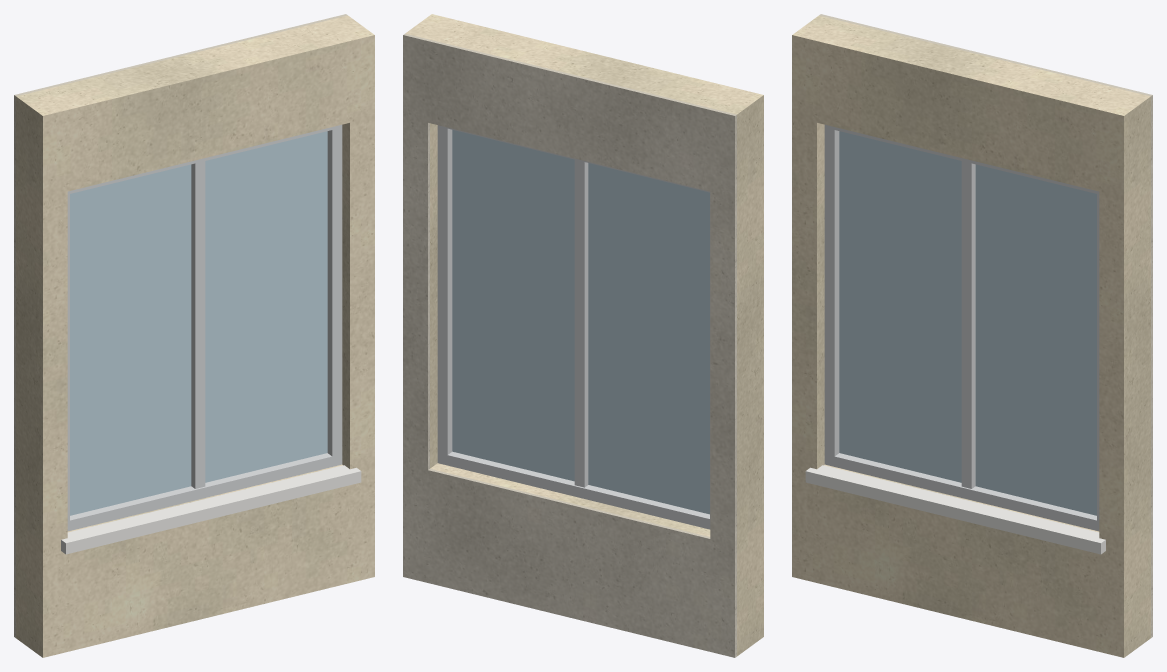
Rendered from wall_lobby_glass.glb.
3 renders of one model, left to right at view 1: azimuth 30°, elevation 25°; view 2: azimuth 150°, elevation 25°; view 3: azimuth 330°, elevation 25°, orthographic.
Visible parts, largest first — view 1: wall_lobby_glass_stucco, wall_lobby_glass_glass, wall_lobby_glass_alu, wall_lobby_glass_trim, wall_lobby_glass_plaster; view 2: wall_lobby_glass_plaster, wall_lobby_glass_glass, wall_lobby_glass_stucco, wall_lobby_glass_alu; view 3: wall_lobby_glass_stucco, wall_lobby_glass_glass, wall_lobby_glass_alu, wall_lobby_glass_trim, wall_lobby_glass_plaster.
Boxes of the visible parts, bbox=[...] form: wall_lobby_glass_stucco: bbox=[16, 15, 374, 657]; wall_lobby_glass_glass: bbox=[70, 131, 327, 515]; wall_lobby_glass_alu: bbox=[67, 124, 342, 531]; wall_lobby_glass_trim: bbox=[61, 465, 361, 554]; wall_lobby_glass_plaster: bbox=[14, 14, 347, 637]; wall_lobby_glass_plaster: bbox=[403, 33, 736, 657]; wall_lobby_glass_glass: bbox=[452, 130, 709, 514]; wall_lobby_glass_stucco: bbox=[405, 14, 763, 656]; wall_lobby_glass_alu: bbox=[437, 125, 710, 529]; wall_lobby_glass_stucco: bbox=[792, 15, 1150, 657]; wall_lobby_glass_glass: bbox=[839, 131, 1096, 515]; wall_lobby_glass_alu: bbox=[824, 124, 1099, 531]; wall_lobby_glass_trim: bbox=[805, 465, 1105, 554]; wall_lobby_glass_plaster: bbox=[819, 14, 1152, 637].
Bounding box in the file's own units: 2 × 3.12 × 0.35.
Materials: 5 (2 with a texture image).
